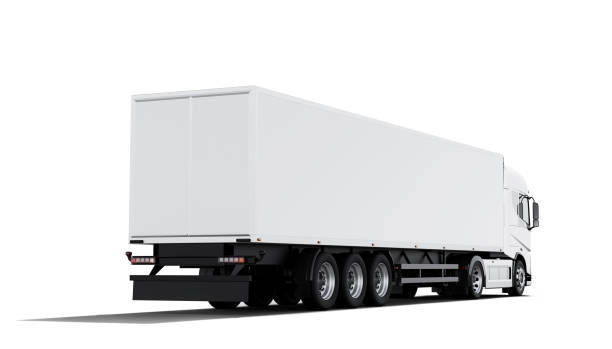Semi: (125, 85, 539, 309)
